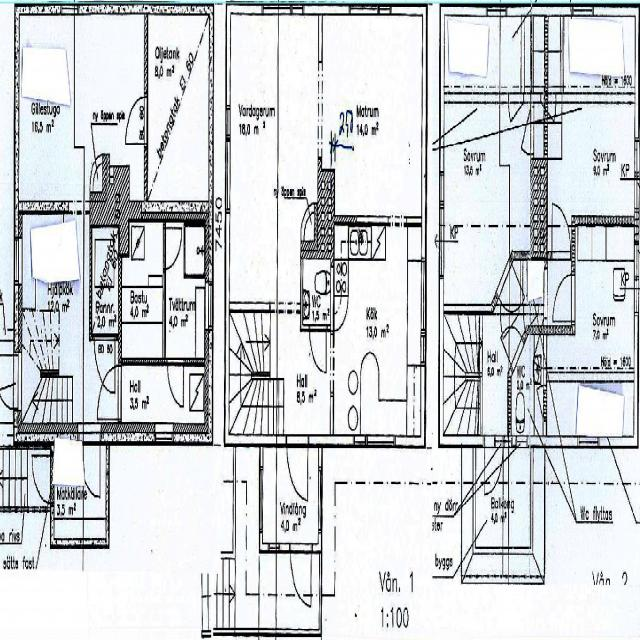door: (286, 435, 308, 500), (94, 333, 115, 393), (98, 365, 121, 419), (291, 543, 311, 604), (0, 354, 22, 408), (83, 423, 100, 488), (126, 97, 148, 143), (32, 456, 54, 502), (163, 227, 182, 269), (168, 358, 184, 406), (310, 325, 326, 372)
